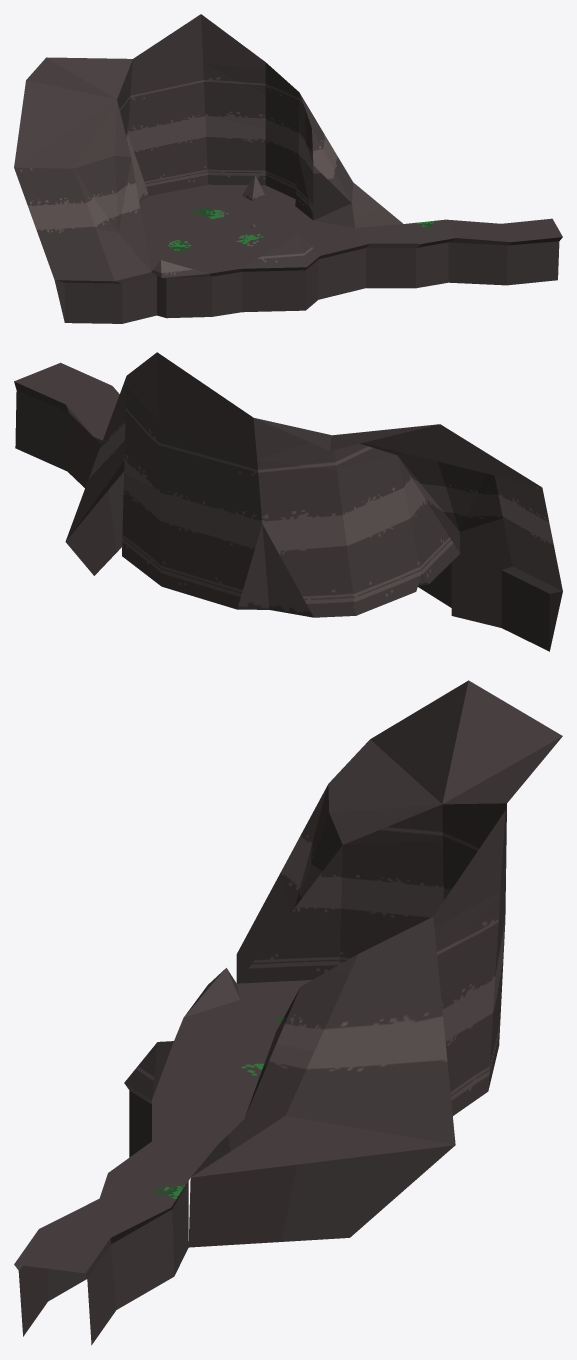
Rendered from intro-map-v8.fbx.
3 renders of one model, top to bottom at view 1: azimuth 30°, elevation 25°; view 2: azimuth 150°, elevation 25°; view 3: azimuth 270°, elevation 25°, orthographic. The views are drawn at different scales.
Visible parts, largest first — view 1: Cave 01; view 2: Cave 01; view 3: Cave 01.
Boxes of the visible parts, left/top/right/bottom form: Cave 01: left=14, top=14, right=562, bottom=323; Cave 01: left=14, top=352, right=562, bottom=651; Cave 01: left=14, top=680, right=562, bottom=1345.
Size of the model in its own units: 7541 by 3374 by 4743.
